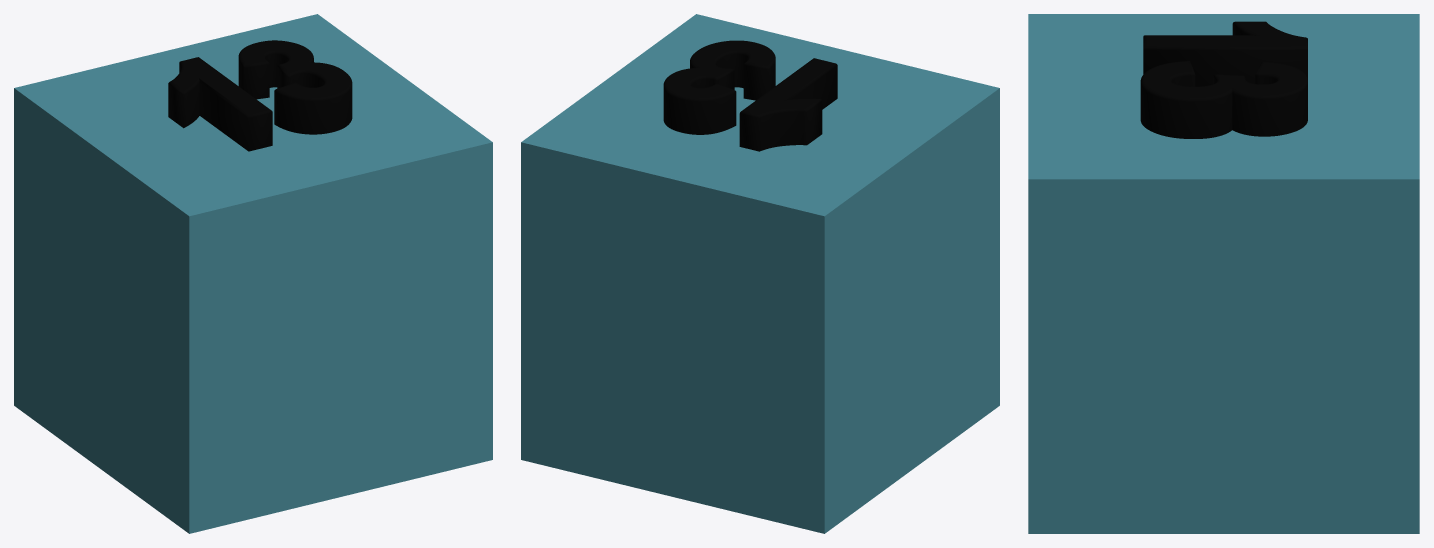
The model's file is level13.fbx.
The picture shows the model from 3 angles, left to right: view 1: azimuth 30°, elevation 25°; view 2: azimuth 150°, elevation 25°; view 3: azimuth 270°, elevation 25°; orthographic projection. The views are drawn at different scales.
Parts seen in each view (by area): view 1: Text; view 2: Text; view 3: Text.
Boxes of the visible parts, bbox=[...] form: Text: bbox=[14, 14, 492, 533]; Text: bbox=[521, 14, 999, 533]; Text: bbox=[1028, 14, 1419, 533].
Size of the model in its own units: 200 by 223 by 200.
